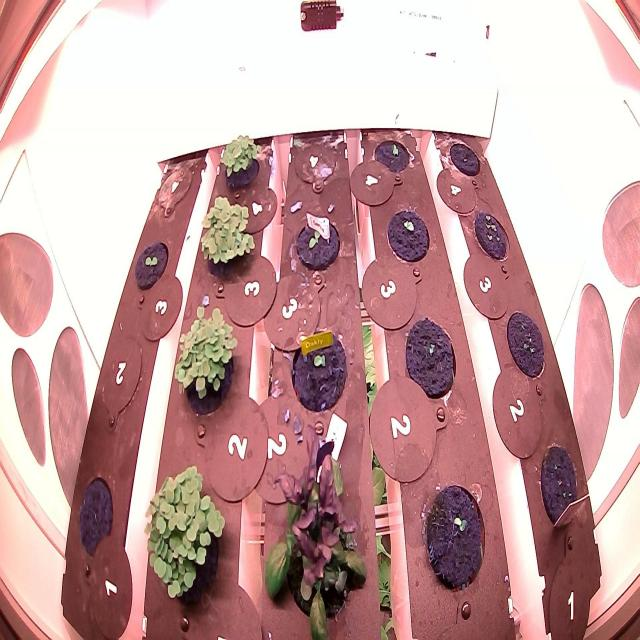empty_pod: (93, 330, 147, 428), (290, 136, 342, 193), (153, 154, 196, 218)
germination: (419, 468, 491, 596), (400, 307, 464, 408), (290, 326, 349, 422), (290, 204, 346, 285), (384, 204, 434, 275), (132, 224, 171, 301), (369, 124, 414, 190), (471, 208, 512, 266)
pod: (531, 426, 587, 532), (76, 469, 120, 563), (501, 303, 551, 382), (445, 125, 483, 184)
